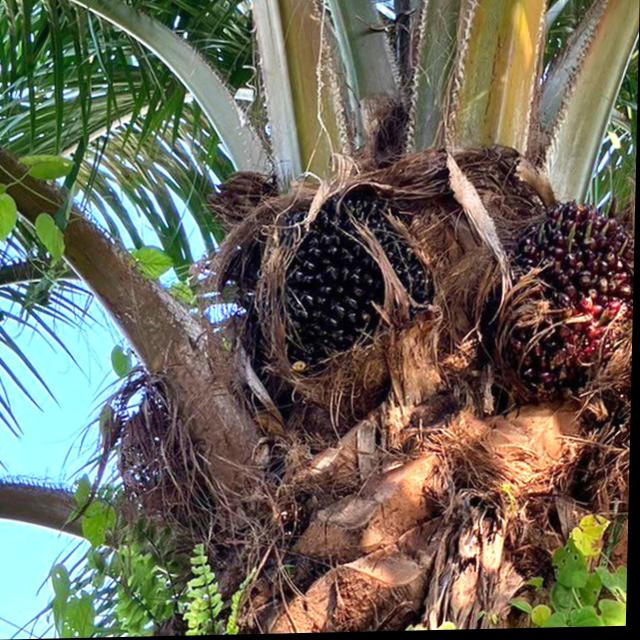almost: (269, 186, 451, 387)
